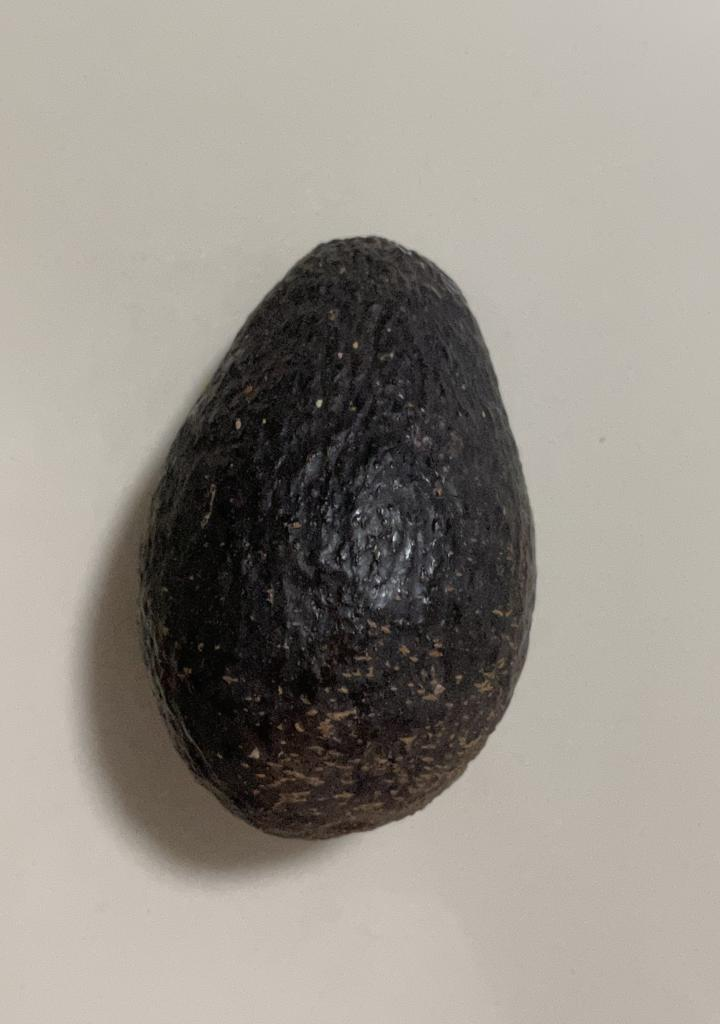Level3: (126, 221, 553, 851)
